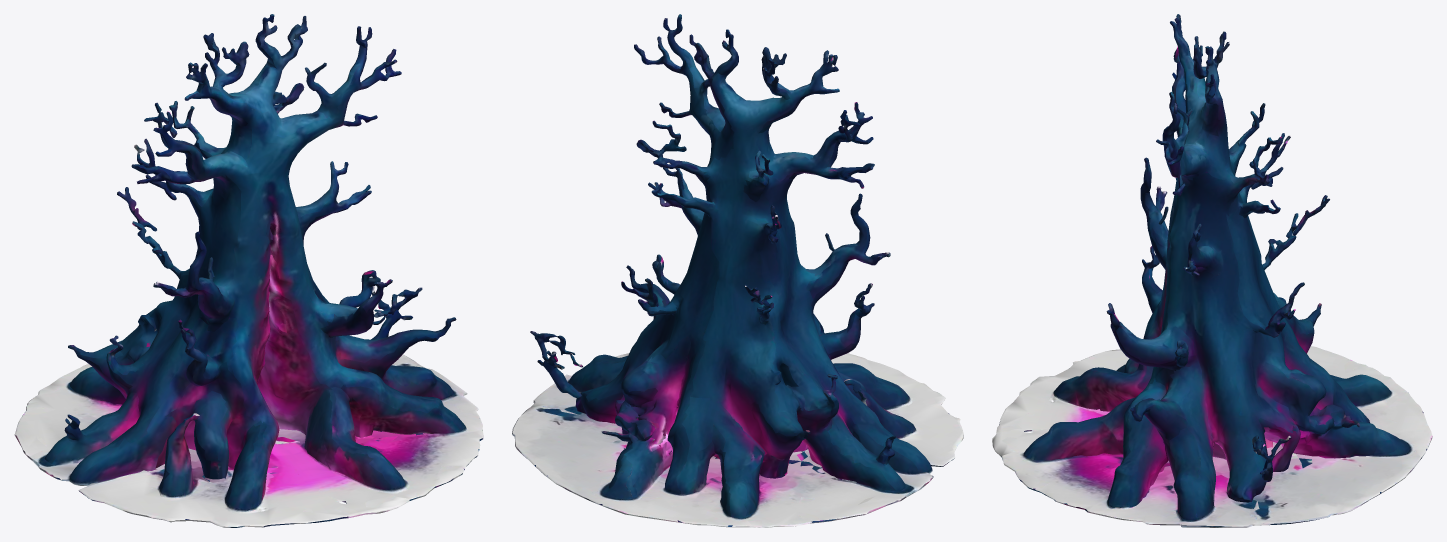
File: sea-root-ne-generated-2026-05-17T19-41-00-695Z.medium.glb
The picture shows the model from 3 angles, left to right: view 1: azimuth 30°, elevation 25°; view 2: azimuth 150°, elevation 25°; view 3: azimuth 270°, elevation 25°; orthographic projection. The views are drawn at different scales.
Parts seen in each view (by area): view 1: temp_mesh.ply; view 2: temp_mesh.ply; view 3: temp_mesh.ply.
Part boxes in pixels (x1,y1,x2,y2): temp_mesh.ply: [14, 14, 483, 527]; temp_mesh.ply: [512, 14, 963, 527]; temp_mesh.ply: [992, 14, 1432, 527].
Bounding box in the file's own units: 1.96 × 1.96 × 1.96.
Materials: 1 (1 with a texture image).
